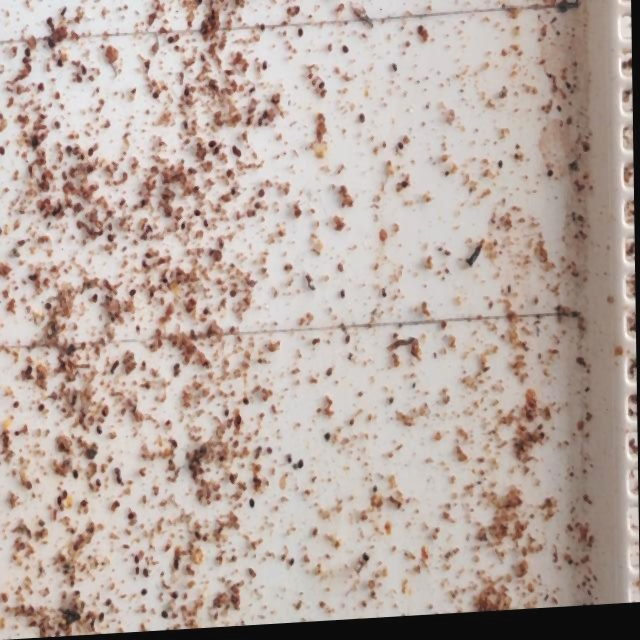varroa: (220, 239, 229, 252), (56, 118, 64, 132), (288, 454, 295, 470), (28, 362, 35, 377), (346, 334, 353, 349), (60, 57, 68, 70), (103, 409, 111, 422), (227, 169, 235, 182), (204, 306, 212, 319), (256, 447, 264, 460), (51, 36, 58, 50), (109, 220, 116, 234), (203, 52, 210, 66), (89, 147, 97, 159), (73, 541, 81, 553), (2, 117, 9, 130), (143, 258, 150, 271), (250, 499, 257, 512), (341, 290, 348, 303), (402, 184, 411, 194), (399, 144, 408, 154), (344, 47, 353, 57), (14, 398, 22, 409), (169, 36, 177, 47), (155, 91, 163, 102), (27, 46, 34, 58), (97, 426, 104, 438), (73, 470, 80, 482), (97, 478, 104, 490), (173, 440, 180, 452), (33, 274, 42, 283), (18, 113, 27, 122), (210, 141, 219, 150), (147, 252, 156, 261), (174, 363, 183, 372), (172, 592, 181, 601), (216, 147, 224, 157), (260, 191, 268, 201), (231, 290, 239, 300), (140, 200, 148, 210), (162, 611, 170, 621), (320, 82, 328, 92), (64, 171, 70, 184), (85, 191, 91, 204), (186, 121, 192, 134), (49, 15, 56, 26), (34, 136, 41, 147), (117, 475, 124, 486), (181, 221, 188, 232), (244, 398, 251, 409), (174, 560, 181, 571), (298, 462, 305, 473), (362, 116, 369, 127), (82, 498, 90, 507), (136, 553, 142, 565), (239, 150, 245, 162), (205, 220, 211, 232), (189, 167, 197, 176), (144, 232, 150, 244), (238, 415, 244, 427), (267, 449, 275, 458), (326, 434, 332, 446), (339, 263, 345, 275), (40, 403, 47, 413), (70, 132, 77, 142), (68, 145, 75, 155), (27, 479, 34, 489), (233, 147, 240, 157), (195, 186, 202, 196), (327, 371, 334, 381), (99, 610, 105, 621), (265, 62, 271, 73), (234, 187, 239, 200), (114, 468, 122, 476), (256, 204, 264, 212), (131, 289, 139, 297), (196, 210, 205, 217), (40, 82, 46, 92), (57, 90, 62, 102), (110, 234, 116, 244), (77, 202, 83, 212), (79, 220, 85, 230), (58, 494, 63, 506), (142, 587, 148, 597), (265, 112, 271, 122), (263, 23, 268, 35), (297, 7, 303, 17), (225, 411, 231, 421), (47, 303, 55, 310), (130, 512, 137, 520), (220, 456, 227, 464), (363, 558, 370, 566), (3, 145, 8, 156), (260, 120, 265, 131), (106, 598, 112, 607), (186, 88, 192, 97), (64, 489, 69, 499), (145, 568, 150, 578), (301, 31, 306, 41), (549, 175, 556, 182), (195, 530, 201, 538), (289, 560, 295, 568), (204, 536, 209, 543)
